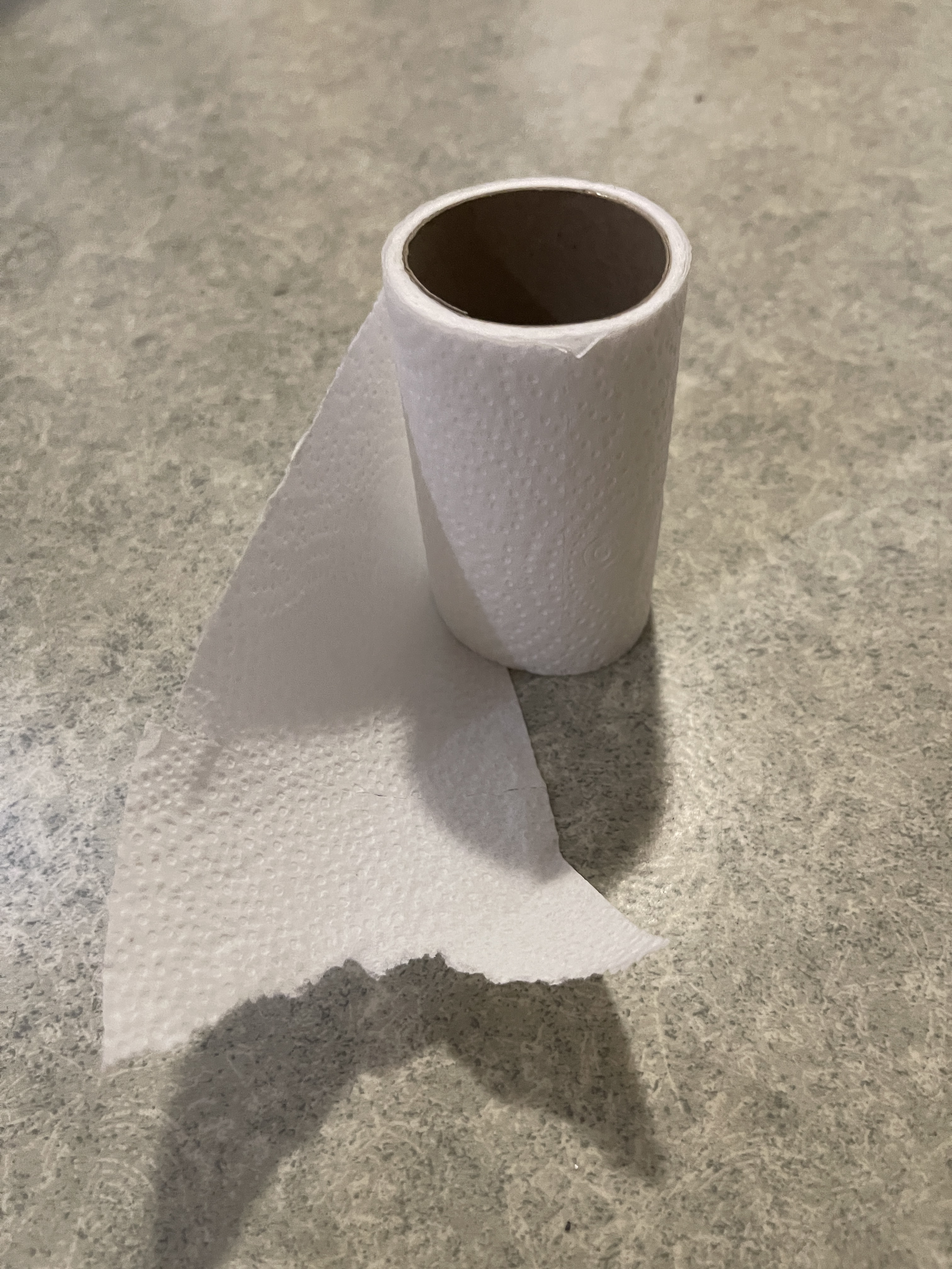paper: (97, 177, 694, 1084)
